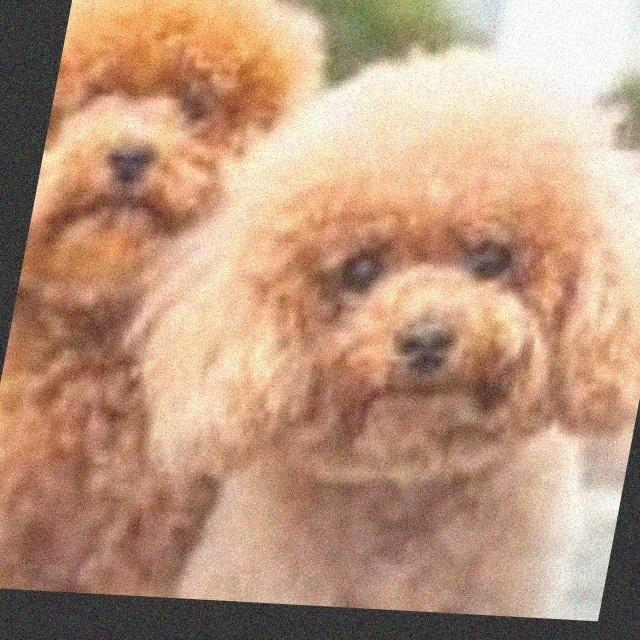dog: (205, 49, 640, 482)
